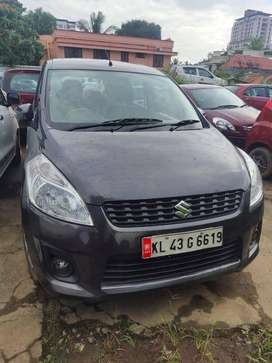KL43G6619: (141, 225, 223, 259)
